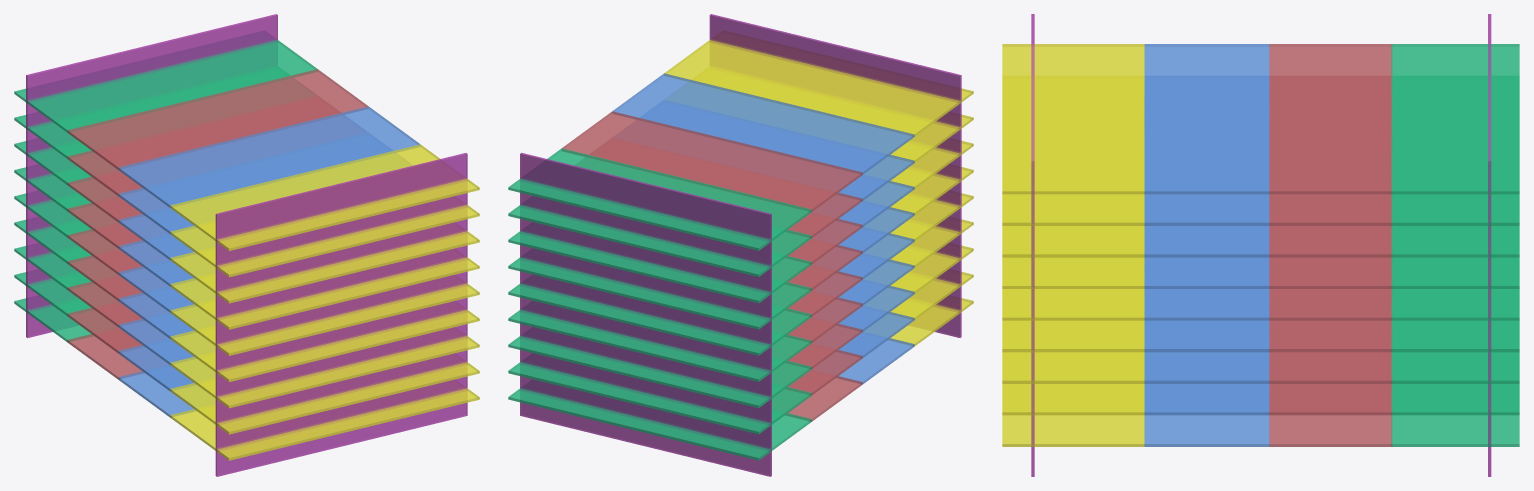
File: seq_2.glb
3 renders of one model, left to right at view 1: azimuth 30°, elevation 25°; view 2: azimuth 150°, elevation 25°; view 3: azimuth 270°, elevation 25°, orthographic. The views are drawn at different scales.
Visible parts, largest first — view 1: Cube.002, Cube.030, Cube.047, Cube.003, Cube.012, Cube.001, Cube.020, Cube.019, Cube.015, Cube.014, Cube.013, Cube.018 (+26 smaller); view 2: Cube.003, Cube.030, Cube.047, Cube.001, Cube.002, Cube.012, Cube.011, Cube.009, Cube.007, Cube.010, Cube.004, Cube.008 (+26 smaller); view 3: Cube.001, Cube.012, Cube.030, Cube.047, Cube.018, Cube.020, Cube.019, Cube.017, Cube.016, Cube.014, Cube.013, Cube.015 (+26 smaller).
Part boxes in pixels (<box>): Cube.002: <box>215,153,467,476</box>; Cube.030: <box>118,106,420,207</box>; Cube.047: <box>67,69,368,169</box>; Cube.003: <box>26,14,277,338</box>; Cube.012: <box>14,39,317,132</box>; Cube.001: <box>170,144,479,250</box>; Cube.020: <box>170,361,479,434</box>; Cube.019: <box>170,335,479,408</box>; Cube.015: <box>170,256,479,329</box>; Cube.014: <box>170,282,479,355</box>; Cube.013: <box>170,387,479,460</box>; Cube.018: <box>170,309,479,381</box>; Cube.003: <box>520,152,771,476</box>; Cube.030: <box>612,73,914,174</box>; Cube.047: <box>561,111,862,211</box>; Cube.001: <box>664,39,973,136</box>; Cube.002: <box>709,14,961,337</box>; Cube.012: <box>508,148,811,250</box>; Cube.011: <box>508,361,811,434</box>; Cube.009: <box>508,282,811,355</box>; Cube.007: <box>508,335,811,408</box>; Cube.010: <box>508,256,811,329</box>; Cube.004: <box>508,387,811,460</box>; Cube.008: <box>508,204,811,276</box>; Cube.001: <box>1002,44,1144,194</box>; Cube.012: <box>1391,44,1519,194</box>; Cube.030: <box>1144,44,1269,194</box>; Cube.047: <box>1269,44,1392,194</box>; Cube.018: <box>1002,320,1144,352</box>; Cube.020: <box>1002,384,1144,415</box>; Cube.019: <box>1002,352,1144,383</box>; Cube.017: <box>1002,194,1144,225</box>; Cube.016: <box>1002,226,1144,257</box>; Cube.014: <box>1002,289,1144,320</box>; Cube.013: <box>1002,415,1144,446</box>; Cube.015: <box>1002,257,1144,288</box>.
Bounding box in the file's own units: 2 × 2 × 2.97.
